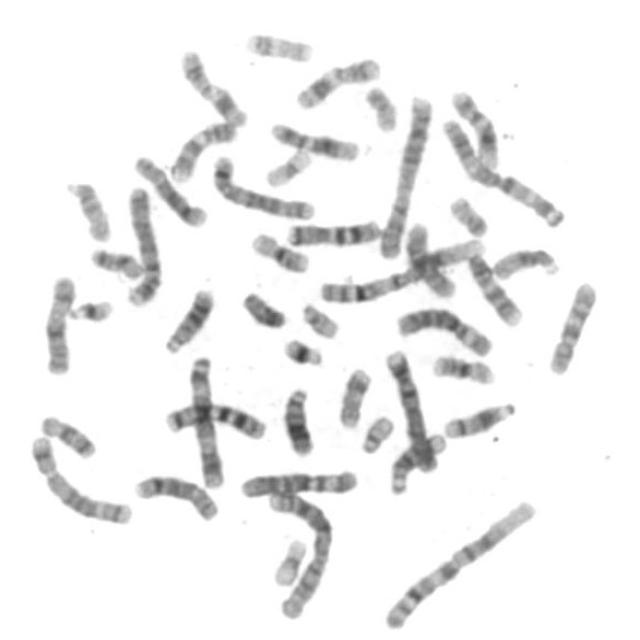A1: (376, 492, 540, 632), (311, 230, 487, 306)
A2: (372, 88, 435, 260), (261, 483, 336, 622)
A3: (435, 110, 569, 229), (181, 348, 226, 490)
B4: (379, 341, 442, 475), (117, 178, 164, 308)
B5: (23, 428, 134, 527), (205, 148, 317, 220)
C10: (540, 273, 600, 377), (398, 215, 459, 300)
C11: (173, 42, 250, 128), (288, 49, 384, 111)
C12: (444, 82, 502, 171), (263, 114, 362, 162)
C6: (390, 299, 496, 359), (232, 462, 362, 500)
C7: (157, 395, 269, 441), (280, 212, 384, 248)
C8: (126, 147, 210, 228), (127, 467, 220, 524)
C9: (163, 113, 239, 183), (461, 245, 525, 328)
D13: (158, 281, 218, 355), (276, 380, 317, 458)
D14: (382, 425, 448, 497), (437, 394, 519, 440)
D15: (58, 173, 113, 243), (486, 240, 562, 282)
E16: (244, 225, 311, 274), (425, 348, 498, 386)
E17: (238, 23, 316, 64), (330, 360, 373, 430)
E18: (33, 406, 98, 461), (84, 240, 145, 281)
F19: (258, 141, 313, 188), (267, 530, 310, 588)
F20: (358, 78, 401, 134), (442, 188, 490, 238)
G21: (276, 330, 326, 368), (61, 291, 116, 324)
G22: (295, 296, 341, 340), (354, 408, 396, 455)
X: (36, 268, 79, 376)
Y: (235, 284, 289, 330)
